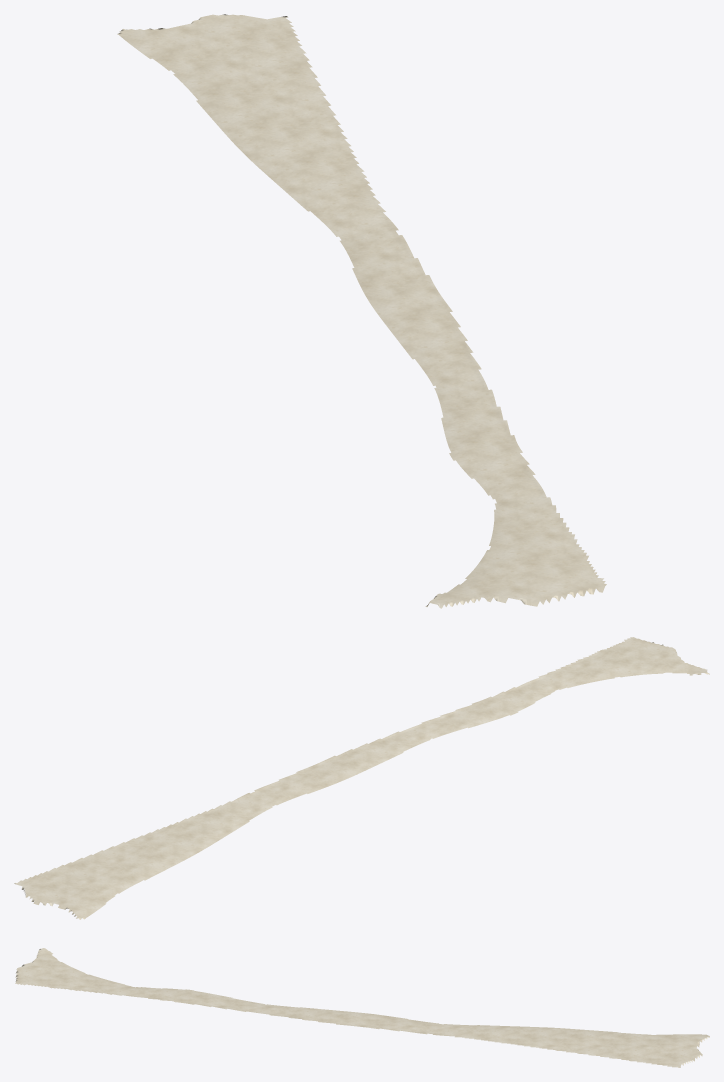
Rendered from ArahaTerrain_SandDry.gltf.
3 renders of one model, top to bottom at view 1: azimuth 30°, elevation 25°; view 2: azimuth 150°, elevation 25°; view 3: azimuth 270°, elevation 25°, orthographic. The views are drawn at different scales.
Visible parts, largest first — view 1: ArahaTerrain_SandDry; view 2: ArahaTerrain_SandDry; view 3: ArahaTerrain_SandDry.
Boxes of the visible parts, x1,y1,x2,y2 form: ArahaTerrain_SandDry: (117,14,606,608); ArahaTerrain_SandDry: (14,637,709,919); ArahaTerrain_SandDry: (15,948,709,1067).
Bounding box in the file's own units: 245 × 1.7 × 594.
Materials: 1 (1 with a texture image).
